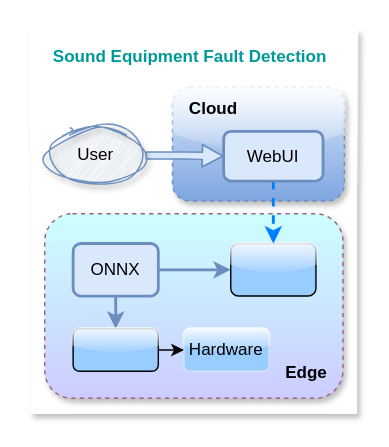
Image size: 389x447. Some labels were removed from this diagram. The shapes that lost their labels are listed below. From the top down, each one's centre as x and y in pixels, then its label:
[272,269]: VLED
[115,349]: Modbus
